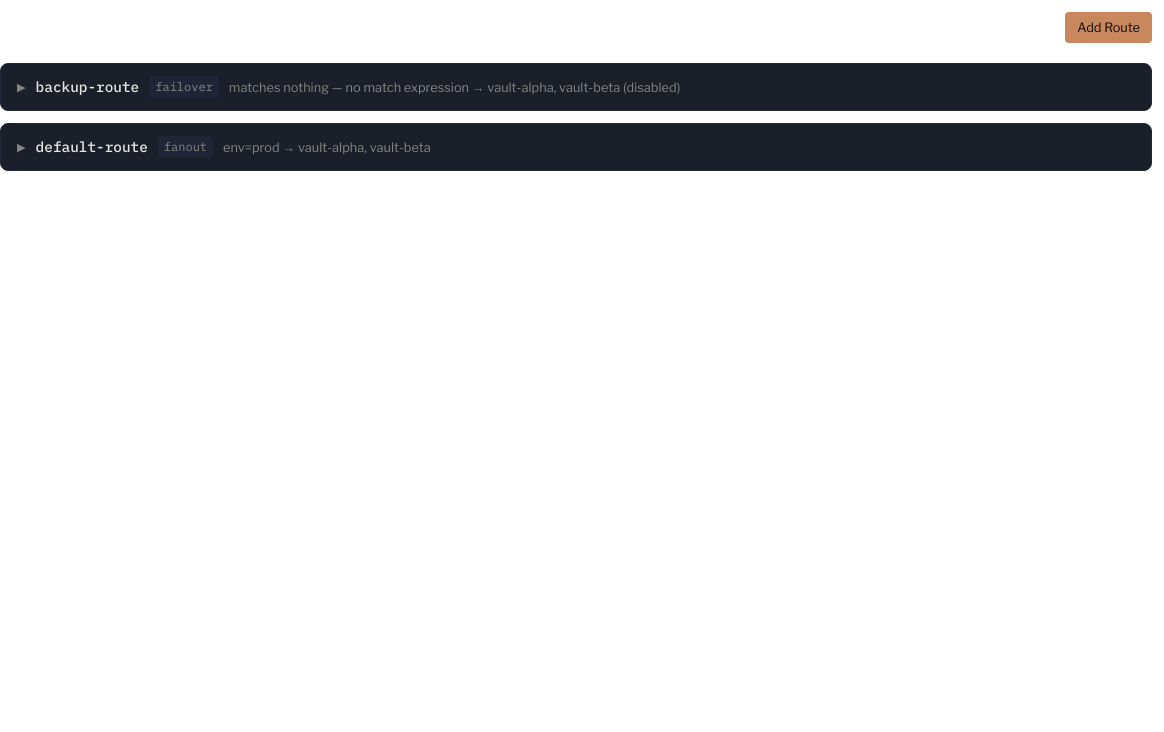
RoutesSettings › expands route card on click and shows edit form
Click the text "default-route" at point(92, 147), box [36,136,148,158]
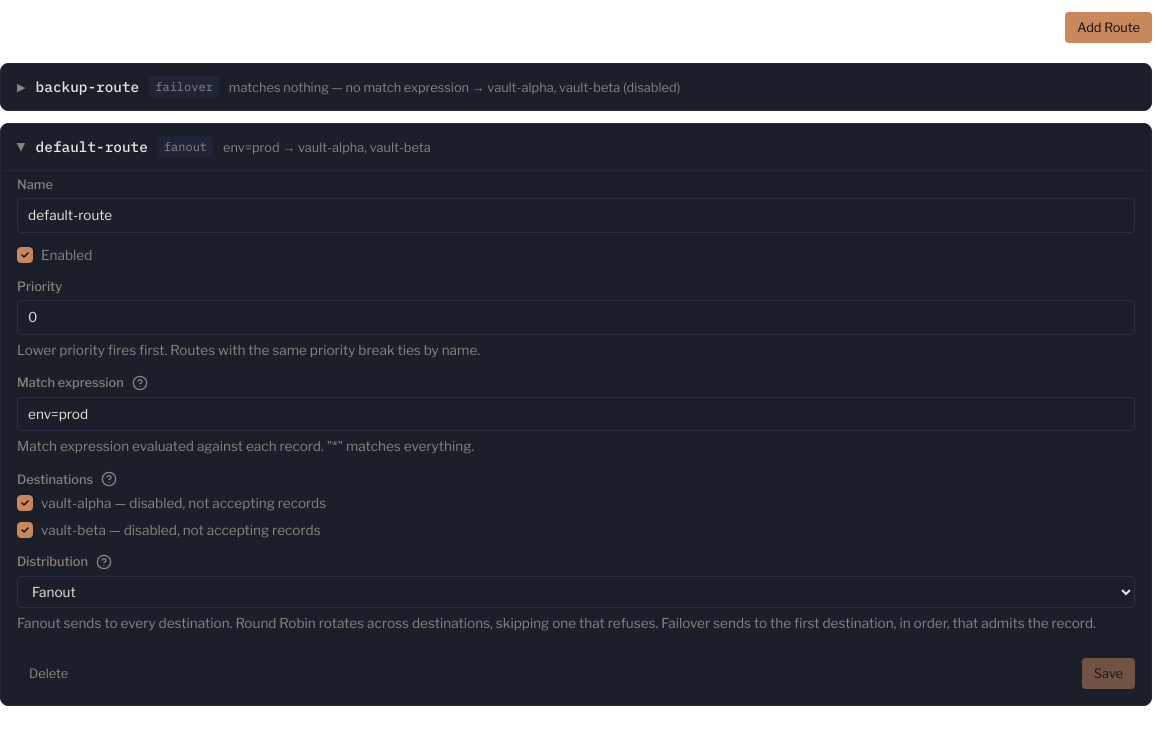
Result: the text "Name" is shown at [17,175,53,194]
Result: the text "Match expression" is shown at [17,373,124,392]
Result: the text "Priority" is shown at [17,277,62,296]
